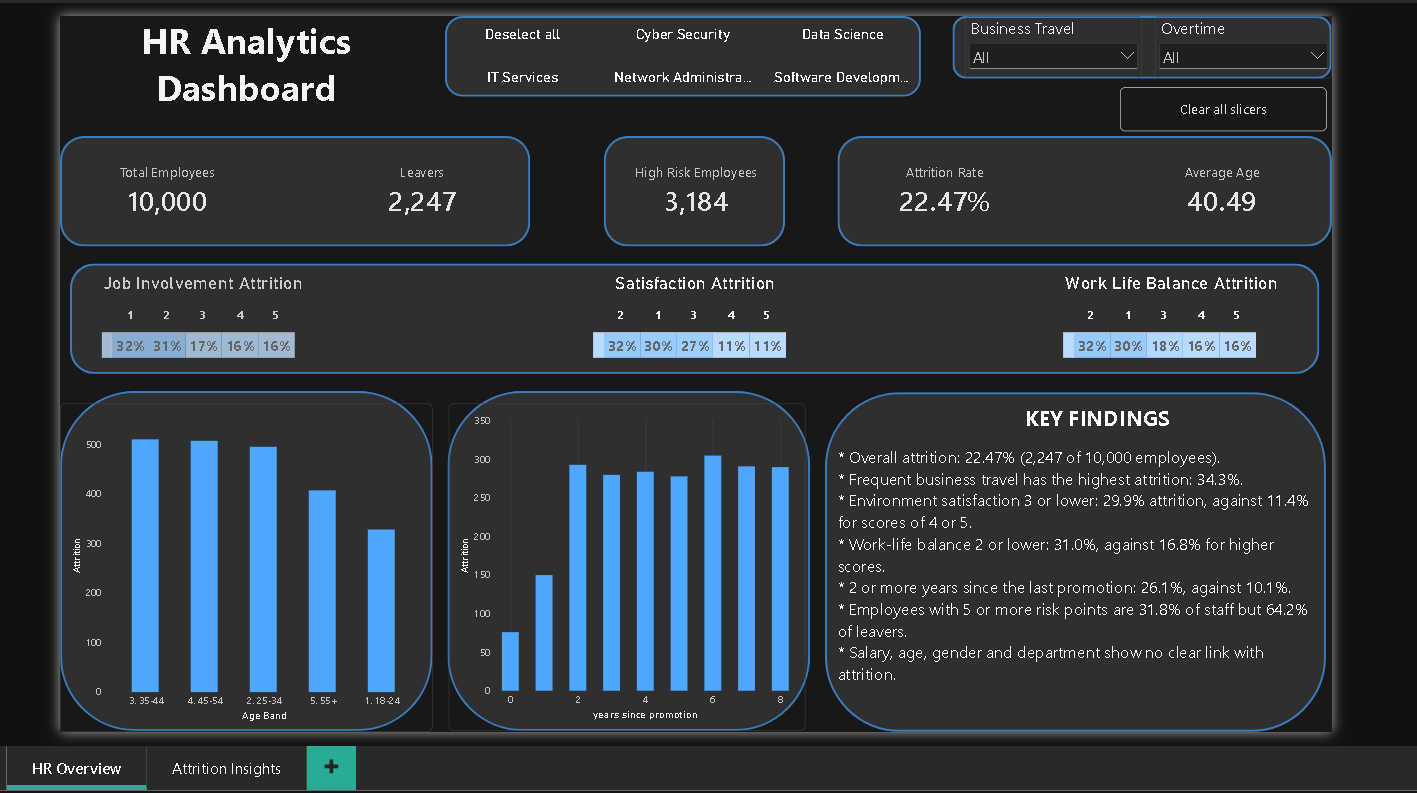

This screenshot's page, from the dashboard's own definition file:
{"tool":"powerbi","page":{"name":"HR Overview","canvas":[1920,1080],"ordinal":0},"visuals":[{"type":"shape","box":[1347,0,572.2,94.7],"z":0},{"type":"shape","box":[581.6,0,718.4,121.9],"z":1000},{"type":"shape","box":[1173.8,181.7,746.2,166.8],"z":2000},{"type":"shape","box":[0,181.7,709.8,166.8],"z":3000},{"type":"cardVisual","fields":{"Data":["Count(hr_attrition_scored.employee_id)"]},"box":[0,181.7,325,166.8],"z":4000},{"type":"cardVisual","fields":{"Data":["hr_attrition_scored.Attrition Rate"]},"box":[1173.8,181.7,325,166.8],"z":5000},{"type":"cardVisual","fields":{"Data":["Sum(hr_attrition_scored.attrition_flag)"]},"box":[384.9,181.7,325,166.8],"z":6000},{"type":"cardVisual","fields":{"Data":["Avg(hr_attrition_scored.age)"]},"box":[1588.6,181.7,331.4,166.8],"z":7000},{"type":"advancedSlicerVisual","fields":{"Values":["hr_attrition_scored.department"]},"box":[581.6,0,718.4,121.9],"z":8000},{"type":"slicer","fields":{"Values":["hr_attrition_scored.business_travel"]},"box":[1365.7,0,267.6,94.7],"z":9000},{"type":"slicer","fields":{"Values":["hr_attrition_scored.overtime"]},"box":[1652.4,0,267.6,94.7],"z":10000},{"type":"pivotTable","title":"Job Involvement Attrition","fields":{"Columns":["hr_attrition_scored.job_involvement"],"Values":["hr_attrition_scored.Attrition Rate"]},"box":[47,374.2,337.8,192.4],"z":11000},{"type":"shape","box":[821,181.7,273.7,166.8],"z":12000},{"type":"cardVisual","fields":{"Data":["hr_attrition_scored.High Risk Employees"]},"box":[797.5,181.7,325,166.8],"z":13000},{"type":"shape","box":[15,374.2,1885.8,166.8],"z":14000},{"type":"pivotTable","title":"Work Life Balance Attrition","fields":{"Columns":["hr_attrition_scored.work_life_balance"],"Values":["hr_attrition_scored.Attrition Rate"]},"box":[1498.8,374.2,359.2,192.4],"z":15000},{"type":"pivotTable","title":"Satisfaction Attrition","fields":{"Columns":["hr_attrition_scored.environment_satisfaction"],"Values":["hr_attrition_scored.Attrition Rate"]},"box":[789,374.2,340,192.4],"z":16000},{"type":"shape","box":[1155.4,567.2,756.2,512.6],"z":17000},{"type":"shape","box":[0,566.6,562.3,513.1],"z":18000},{"type":"textbox","box":[1174.3,584,726.8,495.8],"z":19000},{"type":"actionButton","box":[1599.3,106.9,312.2,66.3],"z":20000},{"type":"shape","box":[584.8,566.6,547.3,513.1],"z":21000},{"type":"textbox","box":[0,0,562.3,173.2],"z":22000},{"type":"clusteredColumnChart","fields":{"Category":["hr_attrition_scored.years_since_promotion"],"Y":["Sum(hr_attrition_scored.attrition_flag)"]},"box":[586,584,538,494],"z":23000},{"type":"clusteredColumnChart","fields":{"Category":["hr_attrition_scored.age_band"],"Y":["Sum(hr_attrition_scored.attrition_flag)"]},"box":[0,584,562,496],"z":24000}]}

Visuals, with their boxes in screenshot pixels (x1, y1, x2, y2), scaled from the page's 1920x1080 canvas onto the 1417x793 screenshot:
shape: (994, 0, 1416, 70)
shape: (429, 0, 959, 90)
shape: (866, 133, 1416, 256)
shape: (0, 133, 524, 256)
cardVisual - Count(hr_attrition_scored.employee_id): (0, 133, 240, 256)
cardVisual - hr_attrition_scored.Attrition Rate: (866, 133, 1106, 256)
cardVisual - Sum(hr_attrition_scored.attrition_flag): (284, 133, 524, 256)
cardVisual - Avg(hr_attrition_scored.age): (1172, 133, 1416, 256)
advancedSlicerVisual - hr_attrition_scored.department: (429, 0, 959, 90)
slicer - hr_attrition_scored.business_travel: (1008, 0, 1205, 70)
slicer - hr_attrition_scored.overtime: (1220, 0, 1416, 70)
"Job Involvement Attrition" pivotTable: (35, 275, 284, 416)
shape: (606, 133, 808, 256)
cardVisual - hr_attrition_scored.High Risk Employees: (589, 133, 828, 256)
shape: (11, 275, 1403, 397)
"Work Life Balance Attrition" pivotTable: (1106, 275, 1371, 416)
"Satisfaction Attrition" pivotTable: (582, 275, 833, 416)
shape: (853, 416, 1411, 792)
shape: (0, 416, 415, 792)
textbox: (867, 429, 1403, 792)
actionButton: (1180, 78, 1411, 127)
shape: (432, 416, 836, 792)
textbox: (0, 0, 415, 127)
clusteredColumnChart - hr_attrition_scored.years_since_promotion x Sum(hr_attrition_scored.attrition_flag): (432, 429, 830, 792)
clusteredColumnChart - hr_attrition_scored.age_band x Sum(hr_attrition_scored.attrition_flag): (0, 429, 415, 792)
